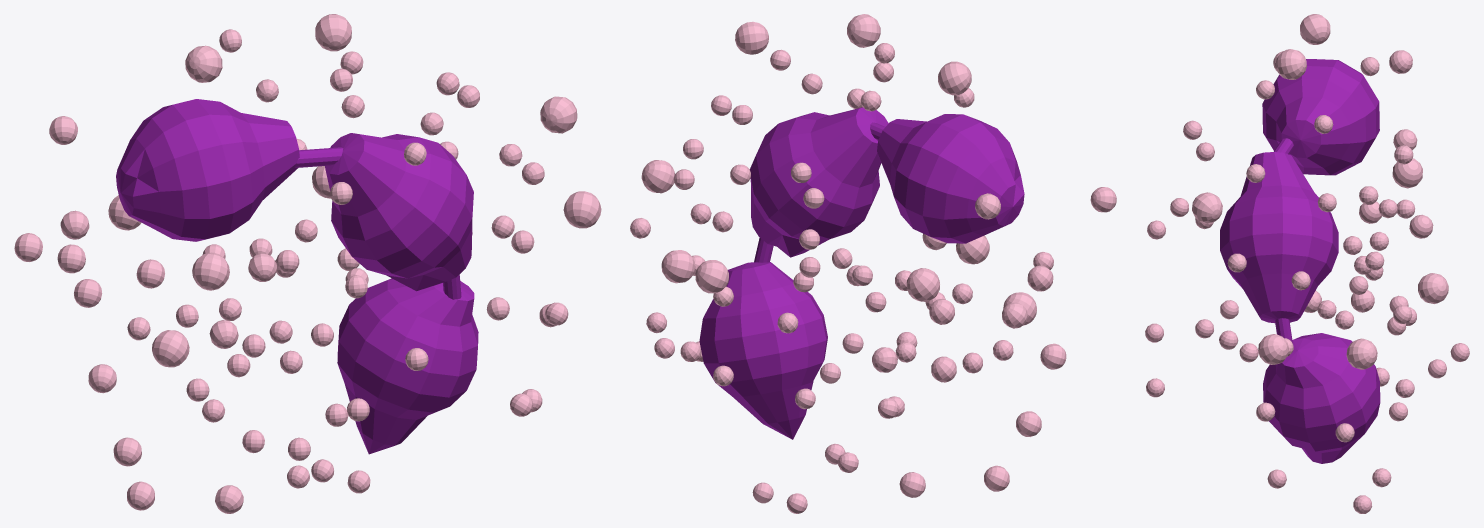
The model's file is model-triangulated.obj.
The picture shows the model from 3 angles, left to right: view 1: azimuth 30°, elevation 25°; view 2: azimuth 150°, elevation 25°; view 3: azimuth 270°, elevation 25°; orthographic projection. The views are drawn at different scales.
Parts seen in each view (by area): view 1: group1342573826, group1013758366, group309895919, group1333205387, group1972625439, group1134961427, group1989945592, group1076835853, group1575044809, group758092730, group807502132, group344116724 (+10 smaller); view 2: group309895919, group1013758366, group1342573826, group1076835853, group1864739159, group1628788373, group733315958, group1972625439, group1989945592, group1575044809, group1333205387, group1688960319 (+9 smaller); view 3: group1013758366, group309895919, group1342573826, group1989945592, group1628788373, group1575044809, group1076835853, group1972625439, group1864739159, group733315958, group1339968158, group1688960319 (+3 smaller).
Part boxes in pixels (left/top/right/bottom): group1342573826: left=116, top=99, right=299, bottom=241; group1013758366: left=325, top=133, right=473, bottom=291; group309895919: left=337, top=278, right=478, bottom=454; group1333205387: left=192, top=252, right=229, bottom=290; group1972625439: left=563, top=191, right=601, bottom=228; group1134961427: left=152, top=330, right=189, bottom=367; group1989945592: left=315, top=14, right=351, bottom=51; group1076835853: left=185, top=45, right=222, bottom=82; group1575044809: left=540, top=96, right=577, bottom=133; group758092730: left=295, top=147, right=343, bottom=167; group807502132: left=88, top=364, right=116, bottom=393; group344116724: left=136, top=259, right=164, bottom=288; group309895919: left=699, top=262, right=827, bottom=439; group1013758366: left=749, top=107, right=888, bottom=257; group1342573826: left=877, top=114, right=1024, bottom=243; group1076835853: left=938, top=61, right=971, bottom=95; group1864739159: left=695, top=260, right=728, bottom=293; group1628788373: left=661, top=250, right=695, bottom=283; group733315958: left=906, top=268, right=939, bottom=301; group1972625439: left=641, top=160, right=675, bottom=193; group1989945592: left=847, top=14, right=880, bottom=47; group1575044809: left=735, top=21, right=768, bottom=54; group1333205387: left=956, top=235, right=989, bottom=264; group1688960319: left=931, top=356, right=956, bottom=382; group1013758366: left=1220, top=152, right=1338, bottom=323; group309895919: left=1263, top=333, right=1380, bottom=463; group1342573826: left=1262, top=59, right=1379, bottom=175; group1989945592: left=1276, top=49, right=1306, bottom=79; group1628788373: left=1346, top=338, right=1377, bottom=369; group1575044809: left=1192, top=192, right=1222, bottom=223; group1076835853: left=1300, top=14, right=1330, bottom=44; group1972625439: left=1258, top=334, right=1288, bottom=364; group1864739159: left=1418, top=273, right=1448, bottom=303; group733315958: left=1392, top=158, right=1422, bottom=188; group1339968158: left=1389, top=50, right=1412, bottom=73; group1688960319: left=1409, top=214, right=1433, bottom=238.
Bounding box in the file's own units: 0.795 × 0.7527 × 0.5096.
